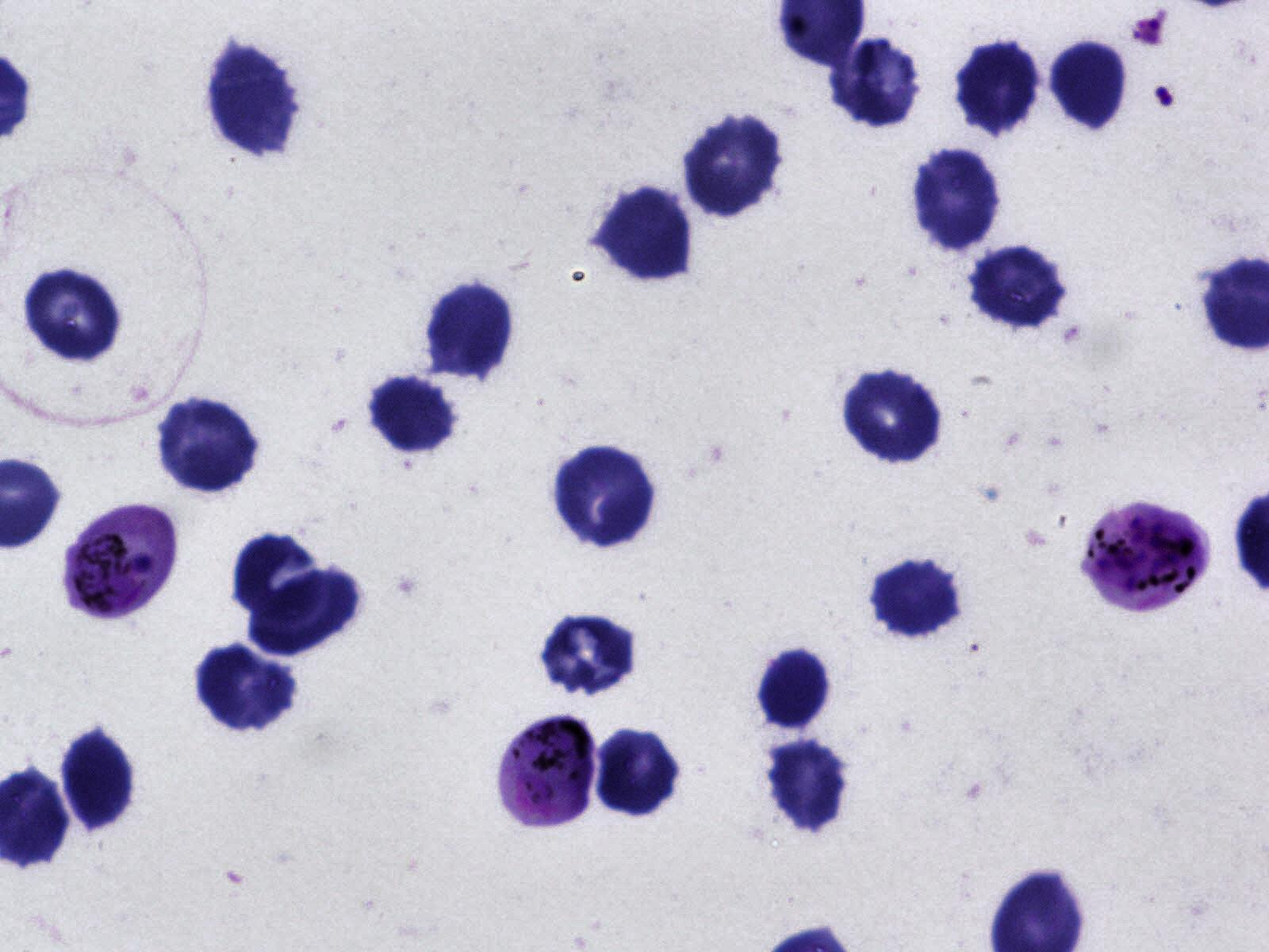Infected: (1083, 502, 1211, 612), (63, 504, 174, 619), (497, 715, 598, 830)
Uninfected: (554, 447, 658, 550), (842, 367, 944, 467), (684, 116, 783, 215), (250, 566, 361, 654), (153, 403, 256, 494), (20, 268, 118, 361), (209, 44, 292, 151), (915, 148, 1001, 248), (199, 643, 297, 730), (541, 614, 639, 699), (600, 189, 692, 279), (427, 285, 516, 378), (969, 246, 1067, 330), (830, 39, 920, 125), (957, 40, 1041, 132), (596, 730, 678, 822), (766, 736, 845, 831), (60, 727, 134, 828), (1049, 37, 1130, 129), (871, 559, 961, 640), (367, 374, 456, 455), (236, 530, 315, 620), (754, 647, 832, 728)
